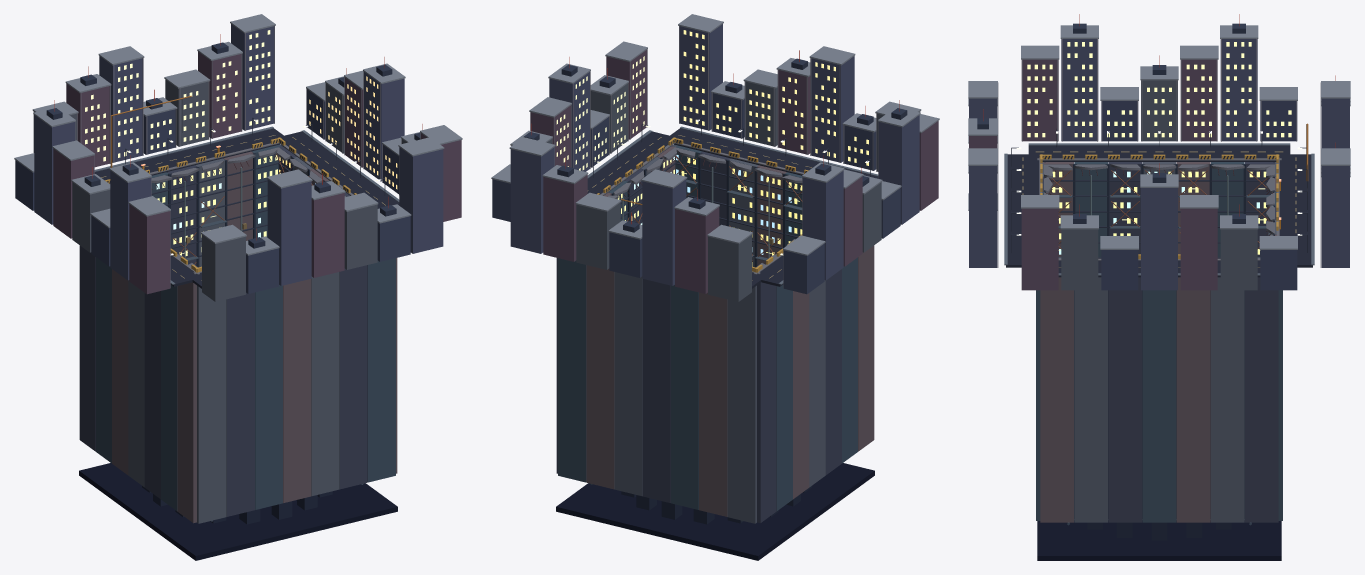
File: cityscape.glb
3 views of the same model, side by side, from view 1: azimuth 30°, elevation 25°; view 2: azimuth 150°, elevation 25°; view 3: azimuth 270°, elevation 25° (orthographic). The views are drawn at different scales.
Visible parts, largest first — view 1: facade_2, facade_1, rim_0, rim_2, rim_1, rim_3, deep_city, facade_0, facade_3; view 2: facade_0, facade_1, rim_0, rim_2, rim_1, rim_3, deep_city, facade_2, facade_3; view 3: facade_3, rim_1, rim_3, facade_1, deep_city, rim_0, rim_2, facade_0, facade_2.
Part boxes in pixels (bbox=[...]): facade_2: bbox=[197, 258, 395, 523]; facade_1: bbox=[79, 245, 197, 523]; rim_0: bbox=[32, 14, 283, 183]; rim_2: bbox=[192, 137, 444, 301]; rim_1: bbox=[14, 100, 201, 294]; rim_3: bbox=[275, 57, 462, 221]; deep_city: bbox=[79, 463, 397, 560]; facade_0: bbox=[151, 144, 282, 267]; facade_3: bbox=[274, 145, 397, 473]; facade_0: bbox=[558, 258, 756, 523]; facade_1: bbox=[756, 239, 874, 523]; rim_0: bbox=[509, 137, 761, 301]; rim_2: bbox=[670, 14, 921, 178]; rim_1: bbox=[752, 100, 939, 294]; rim_3: bbox=[491, 41, 678, 221]; deep_city: bbox=[556, 463, 874, 560]; facade_2: bbox=[671, 144, 802, 267]; facade_3: bbox=[556, 145, 678, 473]; facade_3: bbox=[1040, 258, 1278, 522]; rim_1: bbox=[1021, 14, 1297, 161]; rim_3: bbox=[1021, 163, 1297, 290]; facade_1: bbox=[1042, 162, 1275, 258]; deep_city: bbox=[1037, 519, 1281, 560]; rim_0: bbox=[1276, 75, 1350, 267]; rim_2: bbox=[968, 81, 1042, 267]; facade_0: bbox=[1266, 162, 1282, 520]; facade_2: bbox=[1036, 162, 1052, 520].
Size of the model in its own units: 67.2 by 81.6 by 67.2.
